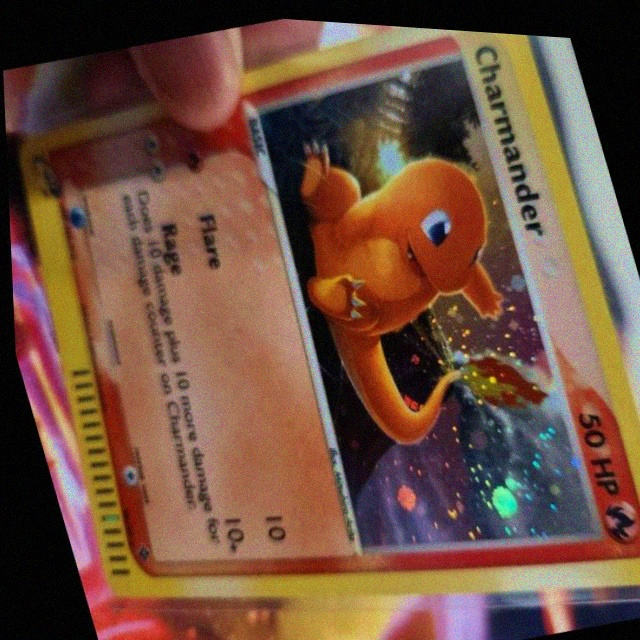card: (16, 21, 640, 599)
